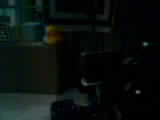duck: (39, 20, 59, 43)
